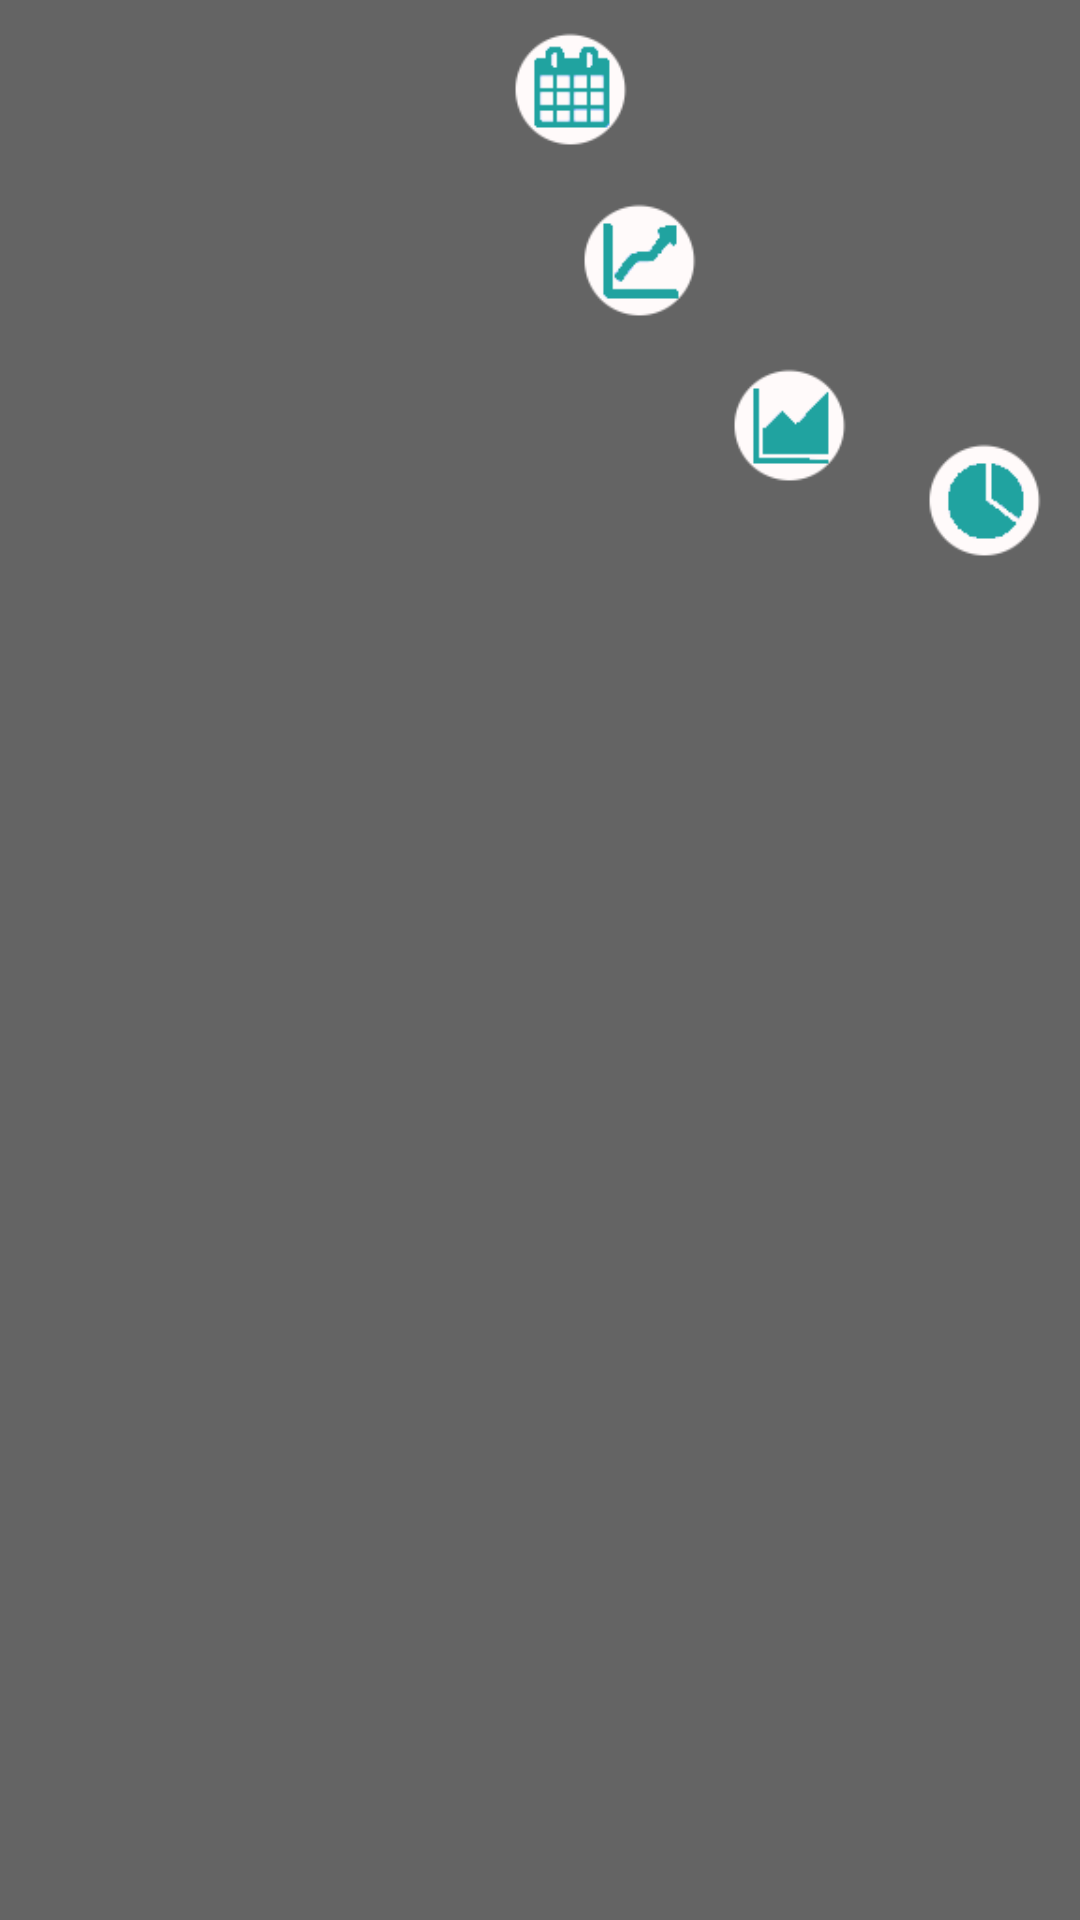

Icons on this 1080w x 1920h Android screen, each with the point to tap as [x,y]:
dates: [570,89]
statistic: [639,260], [789,425], [984,500]
